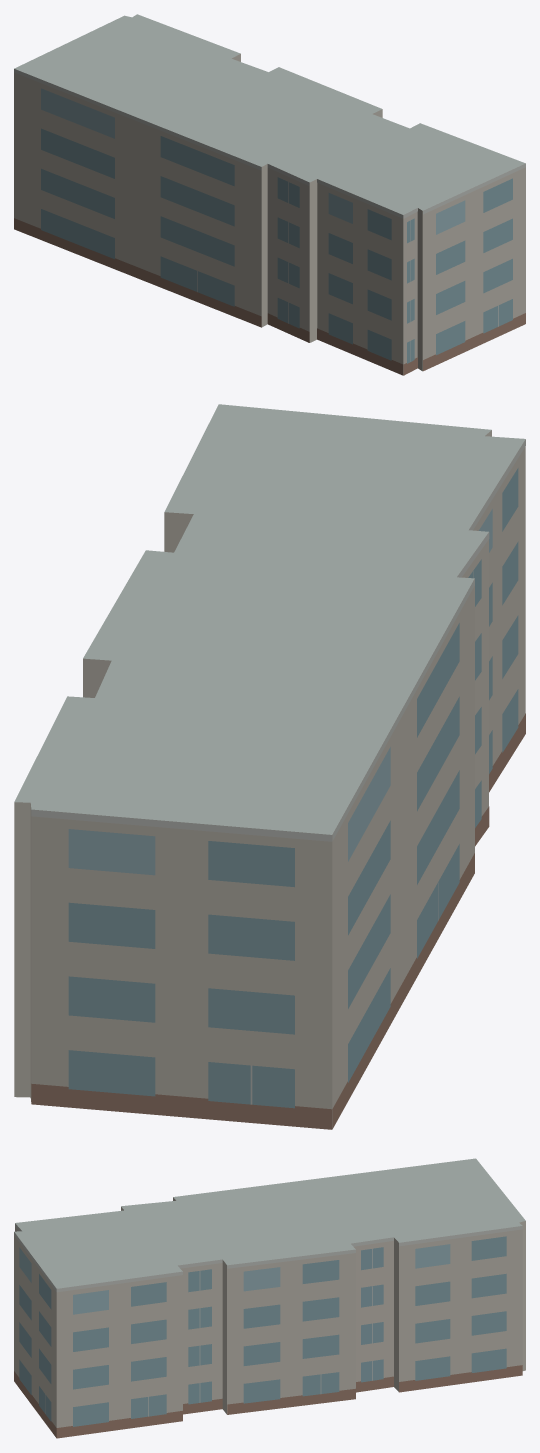
The model's file is survey-upis-32938744.glb.
The picture shows the model from 3 angles, top to bottom: view 1: azimuth 30°, elevation 25°; view 2: azimuth 150°, elevation 25°; view 3: azimuth 270°, elevation 25°; orthographic projection. The views are drawn at different scales.
Visible parts, largest first — view 1: survey-upis-32938744.tmp; view 2: survey-upis-32938744.tmp; view 3: survey-upis-32938744.tmp.
Part boxes in pixels (x1=…): survey-upis-32938744.tmp: x1=14, y1=14, x2=525, y2=375; survey-upis-32938744.tmp: x1=14, y1=404, x2=525, y2=1129; survey-upis-32938744.tmp: x1=14, y1=1158, x2=525, y2=1438.
Size of the model in its own units: 19.45 by 10.4 by 32.25.
